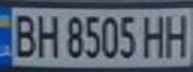0: (100, 12, 121, 60)
5: (118, 12, 142, 60), (81, 12, 103, 60)
8: (60, 11, 84, 60)
B: (6, 10, 39, 58)
H: (139, 11, 172, 60), (160, 10, 193, 58), (30, 10, 60, 58)
